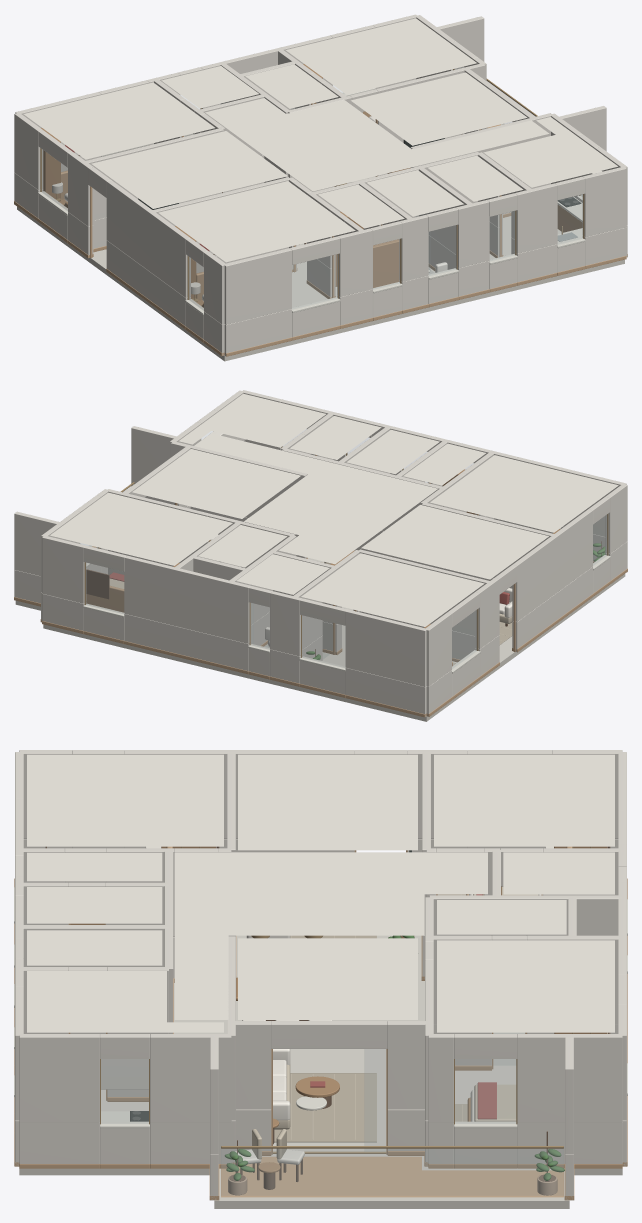
The model's file is apartment-a3.glb.
3 views of the same model, one above another, from view 1: azimuth 30°, elevation 25°; view 2: azimuth 150°, elevation 25°; view 3: azimuth 270°, elevation 25° (orthographic). The views are drawn at different scales.
Visible parts, largest first — view 1: ceiling__Warm_white_upholstery, walls_upper__Warm_limestone_plaster, walls_lower__Warm_limestone_plaster, openings__Window_glazing, floors__Light_limestone_floor, furniture__Natural_oak, walls_lower__Honey_oak, openings__Pale_stone_worktops, openings__Brushed_bronze, openings__Honey_oak, furniture__Warm_white_upholstery; view 2: ceiling__Warm_white_upholstery, walls_upper__Warm_limestone_plaster, walls_lower__Warm_limestone_plaster, openings__Window_glazing, floors__Light_limestone_floor, walls_lower__Honey_oak, openings__Pale_stone_worktops, furniture__Walnut_accent, furniture__Honey_oak, furniture__Warm_white_upholstery, openings__Brushed_bronze; view 3: ceiling__Warm_white_upholstery, walls_upper__Warm_limestone_plaster, openings__Window_glazing, walls_lower__Warm_limestone_plaster, floors__Light_limestone_floor, floors__Honey_oak, furniture__Woven_oat_rug, furniture__Warm_white_upholstery, walls_lower__Honey_oak, furniture__Sand_fabric, openings__Brushed_bronze, furniture__Natural_oak (+5 smaller).
Boxes of the visible parts, x1=… form: ceiling__Warm_white_upholstery: x1=23, y1=18, x2=617, y2=262; walls_upper__Warm_limestone_plaster: x1=14, y1=14, x2=627, y2=324; walls_lower__Warm_limestone_plaster: x1=14, y1=77, x2=627, y2=355; openings__Window_glazing: x1=41, y1=67, x2=582, y2=310; floors__Light_limestone_floor: x1=17, y1=123, x2=624, y2=361; furniture__Natural_oak: x1=41, y1=64, x2=582, y2=307; walls_lower__Honey_oak: x1=14, y1=201, x2=627, y2=356; openings__Pale_stone_worktops: x1=38, y1=88, x2=585, y2=315; openings__Brushed_bronze: x1=40, y1=69, x2=584, y2=299; openings__Honey_oak: x1=90, y1=103, x2=501, y2=297; furniture__Warm_white_upholstery: x1=52, y1=112, x2=602, y2=301; ceiling__Warm_white_upholstery: x1=50, y1=393, x2=618, y2=626; walls_upper__Warm_limestone_plaster: x1=14, y1=390, x2=627, y2=686; walls_lower__Warm_limestone_plaster: x1=14, y1=484, x2=627, y2=716; openings__Window_glazing: x1=80, y1=429, x2=607, y2=668; floors__Light_limestone_floor: x1=15, y1=545, x2=625, y2=721; walls_lower__Honey_oak: x1=14, y1=557, x2=627, y2=717; openings__Pale_stone_worktops: x1=83, y1=528, x2=610, y2=673; furniture__Walnut_accent: x1=86, y1=541, x2=601, y2=656; furniture__Honey_oak: x1=86, y1=585, x2=124, y2=612; furniture__Warm_white_upholstery: x1=194, y1=431, x2=512, y2=647; openings__Brushed_bronze: x1=84, y1=446, x2=608, y2=657; ceiling__Warm_white_upholstery: x1=27, y1=754, x2=614, y2=1032; walls_upper__Warm_limestone_plaster: x1=15, y1=750, x2=626, y2=1154; openings__Window_glazing: x1=101, y1=1049, x2=563, y2=1195; walls_lower__Warm_limestone_plaster: x1=15, y1=839, x2=626, y2=1200; floors__Light_limestone_floor: x1=19, y1=935, x2=622, y2=1208; floors__Honey_oak: x1=221, y1=1156, x2=563, y2=1197; furniture__Woven_oat_rug: x1=274, y1=894, x2=467, y2=1142; furniture__Warm_white_upholstery: x1=101, y1=846, x2=607, y2=1164; walls_lower__Honey_oak: x1=14, y1=878, x2=627, y2=1200; furniture__Sand_fabric: x1=252, y1=886, x2=537, y2=1159; openings__Brushed_bronze: x1=100, y1=1059, x2=563, y2=1153; furniture__Natural_oak: x1=70, y1=846, x2=607, y2=1173.
Size of the model in its own units: 15.66 by 3.19 by 12.72.
